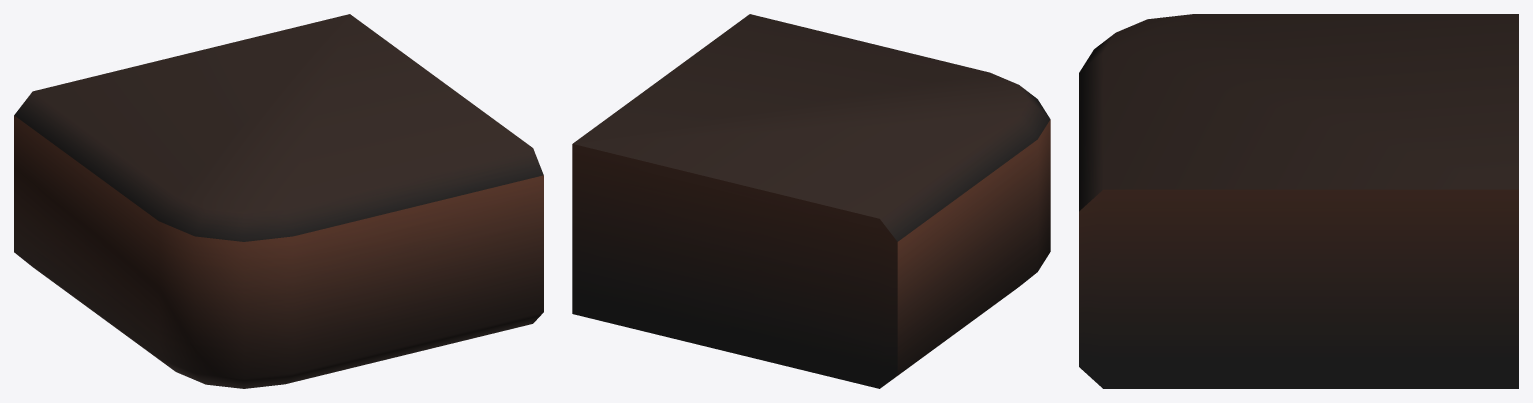
Rendered from m_Brownie01_Slice01.fbx.
3 views of the same model, side by side, from view 1: azimuth 30°, elevation 25°; view 2: azimuth 150°, elevation 25°; view 3: azimuth 270°, elevation 25° (orthographic). The views are drawn at different scales.
Visible parts, largest first — view 1: m_Brownie01_Slice01; view 2: m_Brownie01_Slice01; view 3: m_Brownie01_Slice01.
Part boxes in pixels (bbox=[...]): m_Brownie01_Slice01: bbox=[14, 14, 543, 388]; m_Brownie01_Slice01: bbox=[572, 14, 1050, 388]; m_Brownie01_Slice01: bbox=[1079, 14, 1518, 388].
Size of the model in its own units: 10 by 5 by 10.
